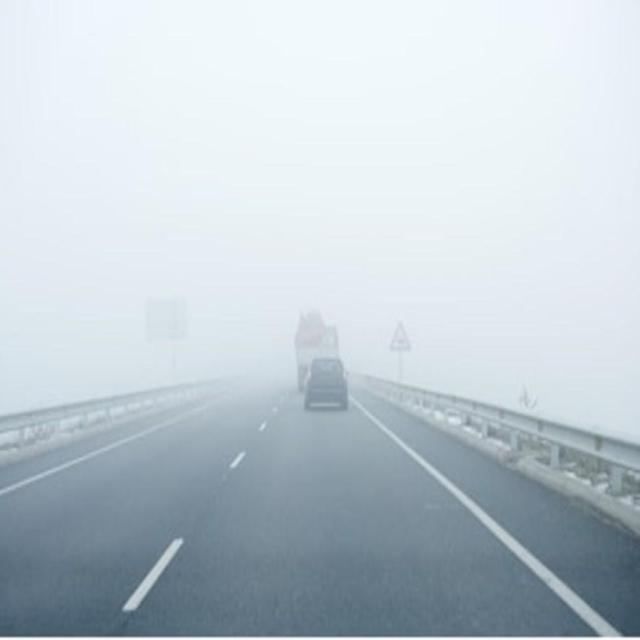Car: (303, 355, 351, 410)
Truck: (293, 306, 341, 392)
